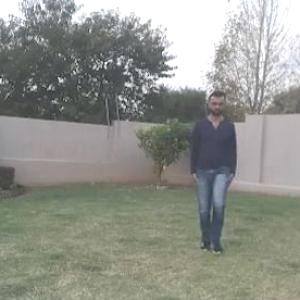follow: (187, 96, 235, 246)
